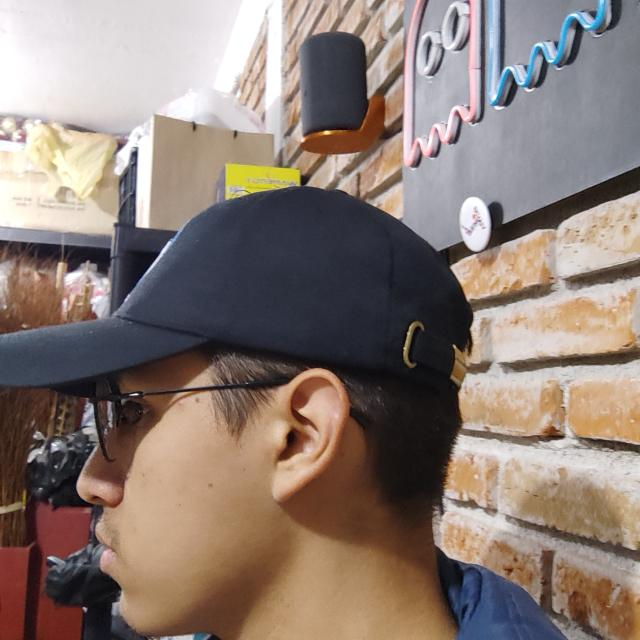ear: (252, 368, 350, 504)
